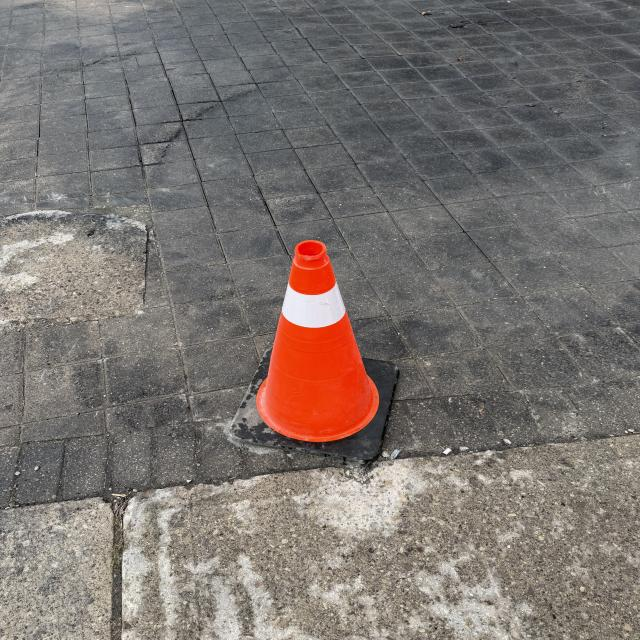Traffic Cone: (226, 239, 401, 461)
